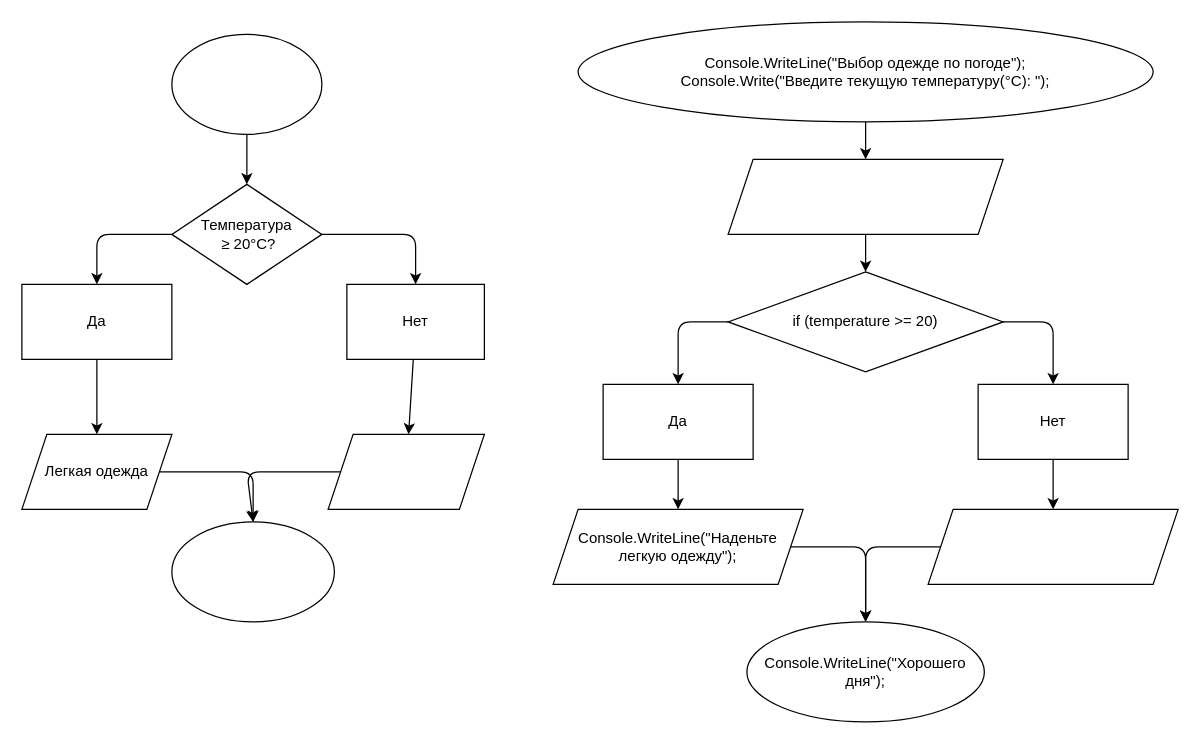
This 1200x744 diagram has some shape labels left out. The shapes that lost their labels are listed below. From the top down, each one's centre as x and y in pixels, then its label:
(246,83): Начало
(865,196): int temperature = Convert.ToInt32(Console.ReadLine());
(405,471): Теплая одежда
(1052,546): Console.WriteLine("Наденьте теплую одежду");
(252,571): Конец
